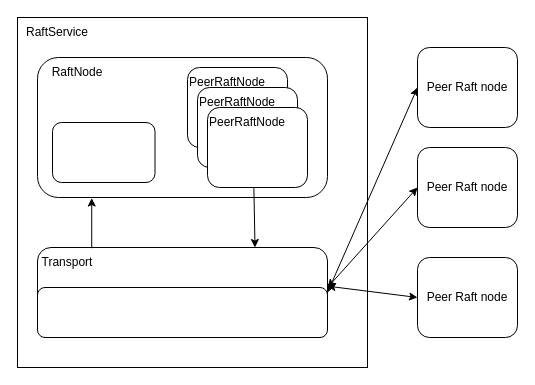
Image size: 535x385. Some labels were removed from this diagram. Each missing label, with the box of its shape:
RpcTransport: (36, 286, 328, 338)
Storage: (52, 122, 155, 182)
